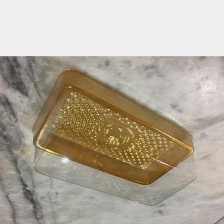plastic_box: (19, 64, 203, 211)
